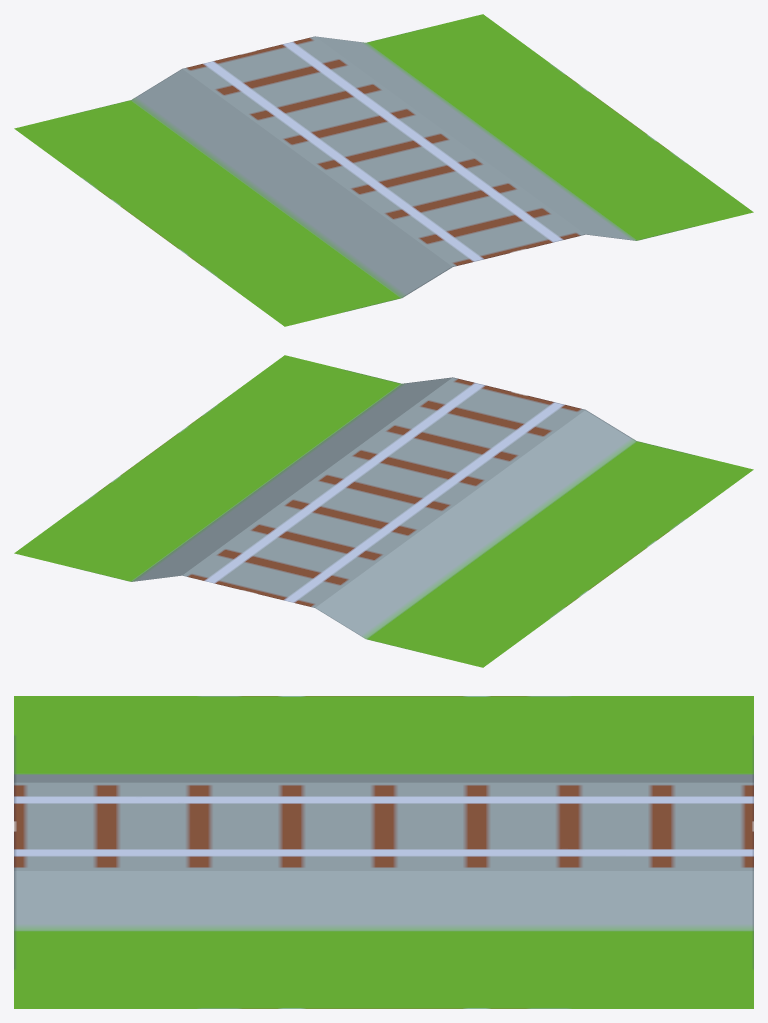
File: CalleTren.fbx
3 renders of one model, top to bottom at view 1: azimuth 30°, elevation 25°; view 2: azimuth 150°, elevation 25°; view 3: azimuth 270°, elevation 25°, orthographic. The views are drawn at different scales.
Parts seen in each view (by area): view 1: CalleTren; view 2: CalleTren; view 3: CalleTren.
Boxes of the visible parts, bbox=[...] form: CalleTren: bbox=[14, 14, 753, 326]; CalleTren: bbox=[14, 355, 753, 667]; CalleTren: bbox=[14, 696, 753, 1008].
Bounding box in the file's own units: 1000 × 38.24 × 1000.
